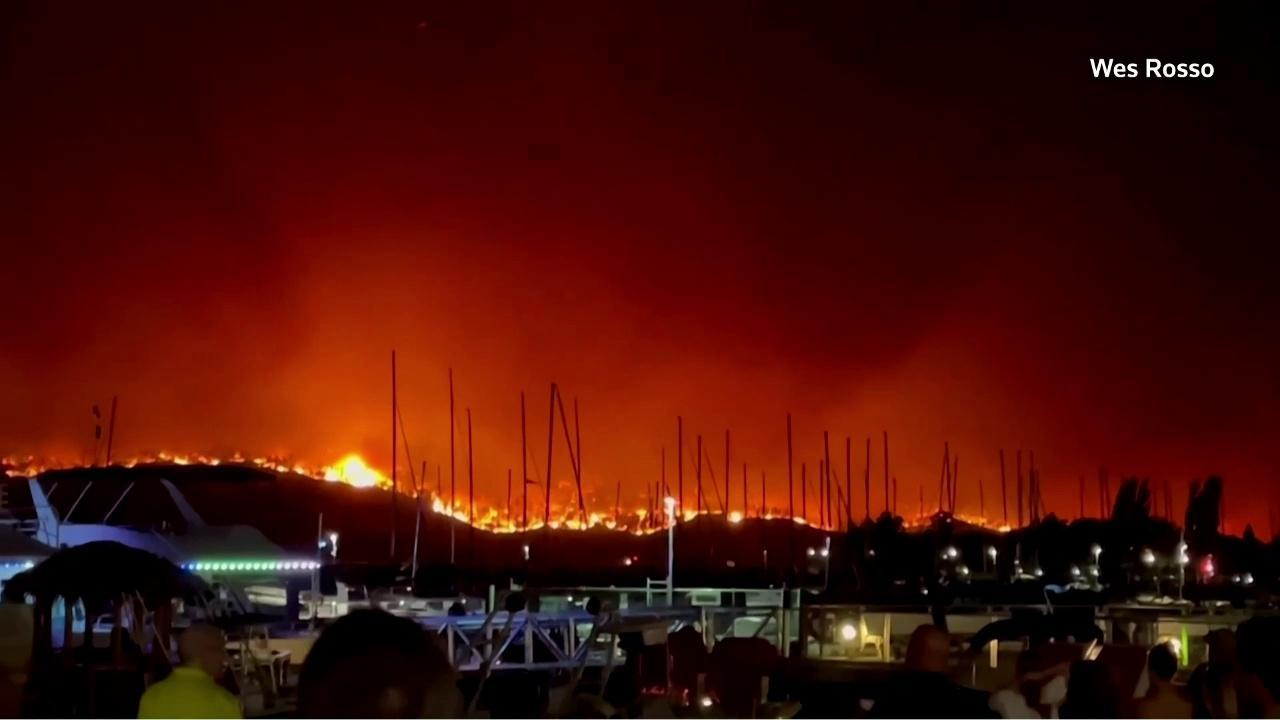fire: (410, 482, 842, 536), (103, 451, 309, 476), (898, 507, 1017, 537), (314, 450, 396, 491), (0, 452, 49, 478)
smoke: (0, 0, 1280, 548)
